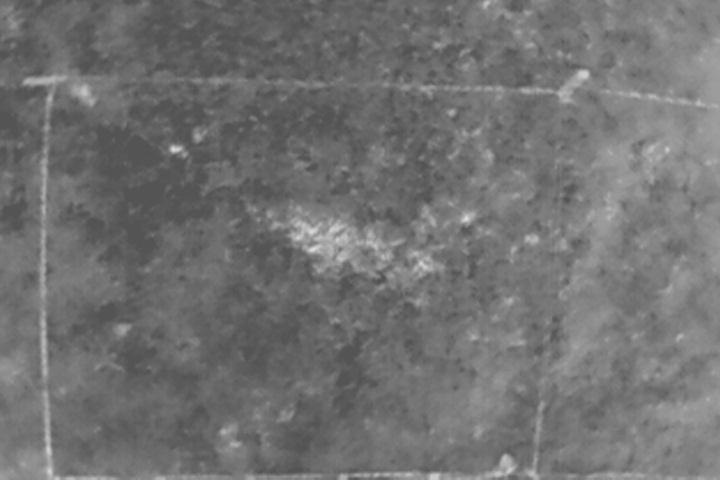landmine: (295, 215, 338, 257)
